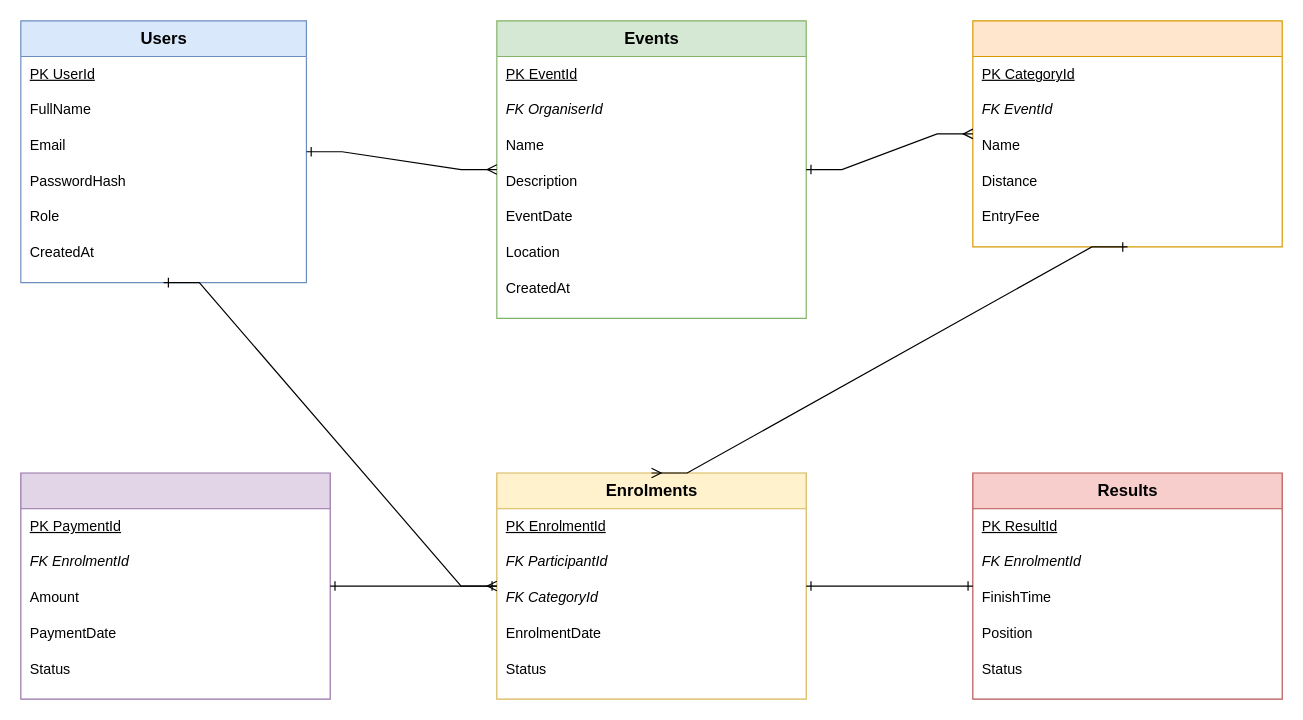
This 1303x720 diagram has some shape labels left out. Here are the shapes that lost their labels. From the top down, the box of each, then its label:
(972, 20, 1282, 247): Categories
(20, 472, 330, 699): Payments
